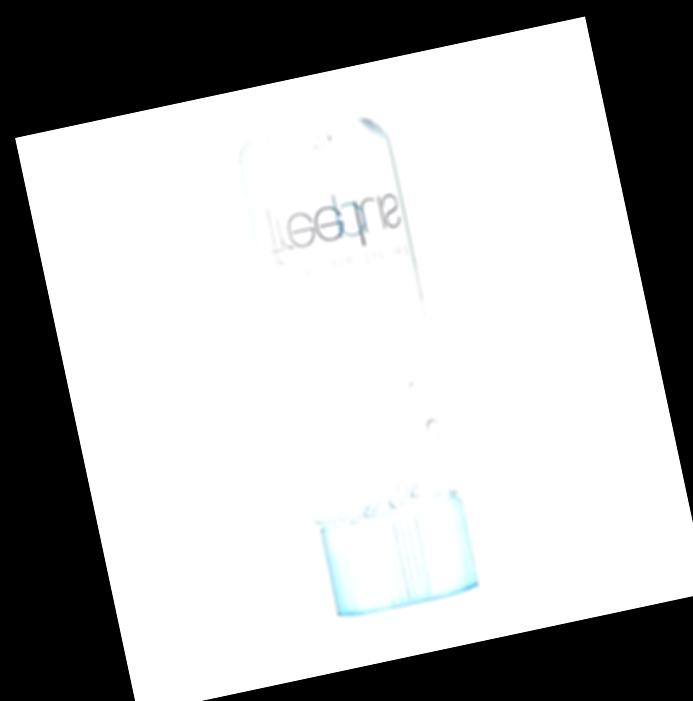cosmetic: (236, 106, 485, 614)
